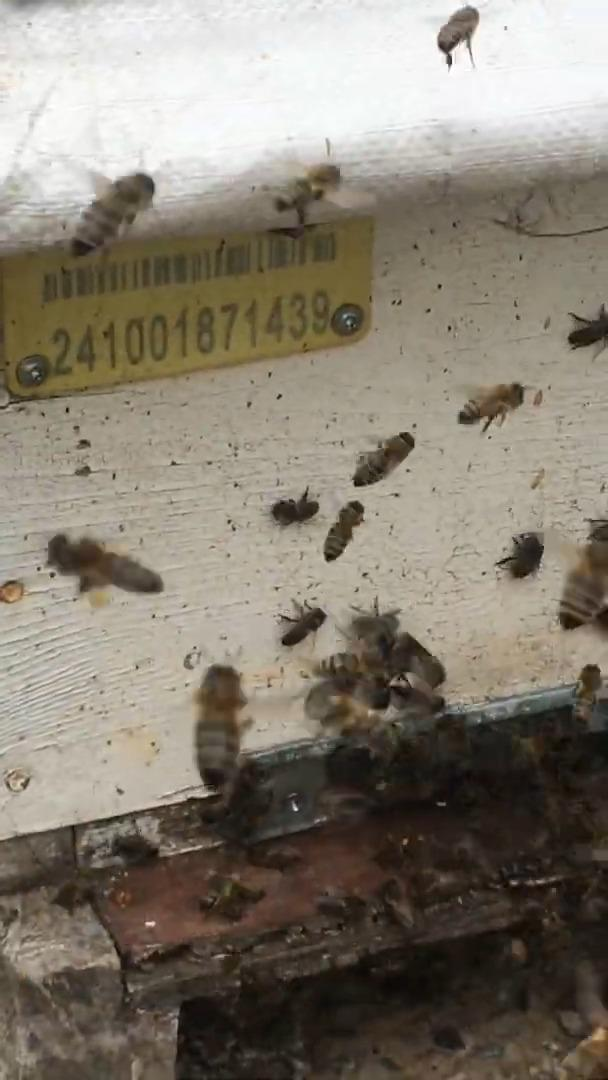worker-bee: (194, 664, 252, 800), (274, 160, 374, 238), (69, 172, 154, 256), (48, 534, 162, 593), (558, 962, 607, 1079), (304, 673, 389, 734), (304, 673, 389, 731), (274, 162, 341, 229), (558, 541, 607, 629), (353, 432, 414, 486), (458, 383, 525, 432), (388, 632, 445, 689), (347, 597, 399, 657), (437, 5, 479, 69), (314, 638, 384, 676), (323, 501, 364, 561), (390, 672, 444, 715), (280, 601, 326, 646), (497, 532, 543, 577), (568, 304, 607, 351), (271, 487, 318, 525), (573, 664, 603, 723), (587, 519, 607, 541)
